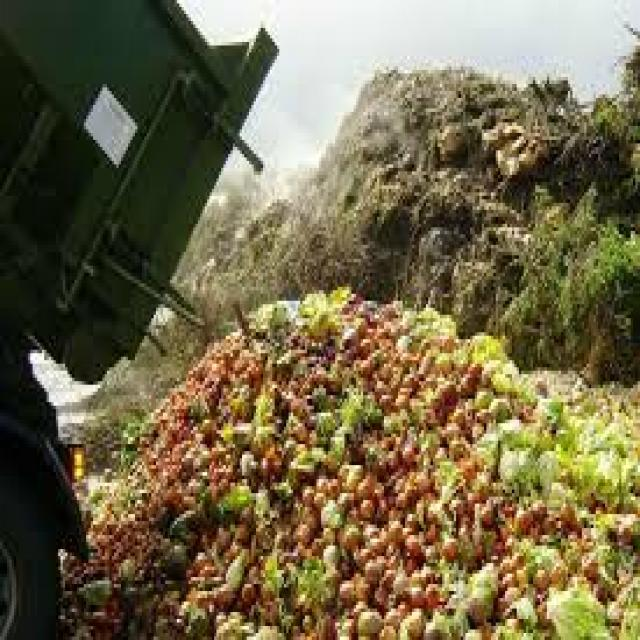food_waste: (229, 351, 611, 627)
